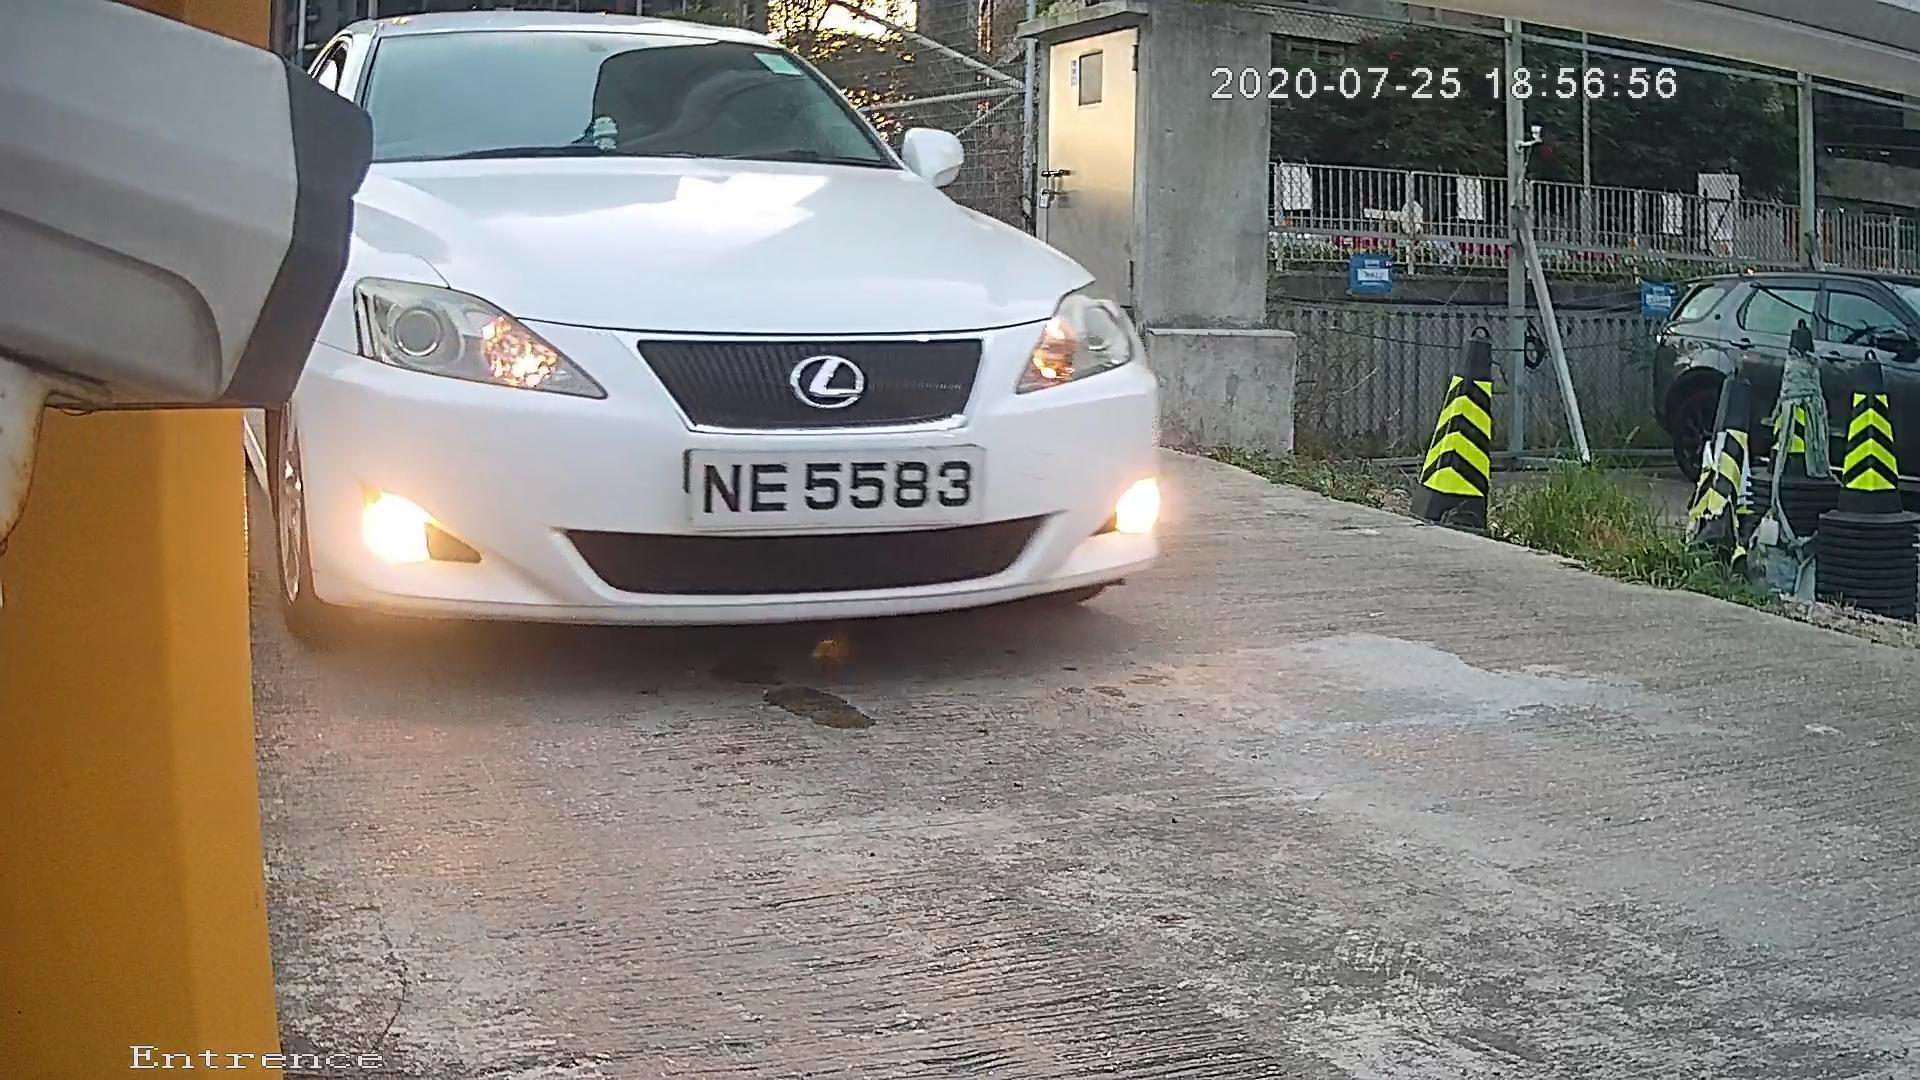privatecar: (249, 11, 1286, 666)
